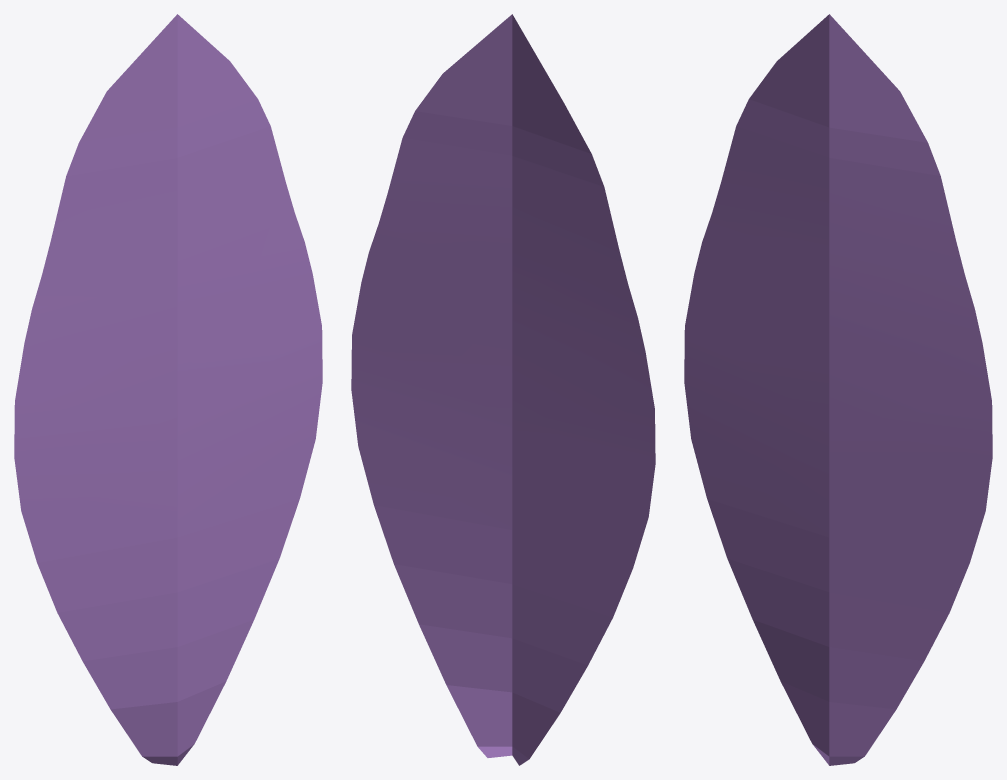
The model's file is petal.fbx.
The picture shows the model from 3 angles, left to right: view 1: azimuth 30°, elevation 25°; view 2: azimuth 150°, elevation 25°; view 3: azimuth 330°, elevation 25°; orthographic projection.
Visible parts, largest first — view 1: Cube.001; view 2: Cube.001; view 3: Cube.001.
Boxes of the visible parts, x1,y1,x2,y2 form: Cube.001: (14, 14, 322, 765); Cube.001: (351, 14, 655, 765); Cube.001: (684, 14, 992, 765).
Bounding box in the file's own units: 74.09 × 173 × 3.76.
